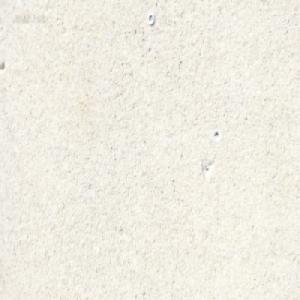Washer: (147, 11, 155, 26)
